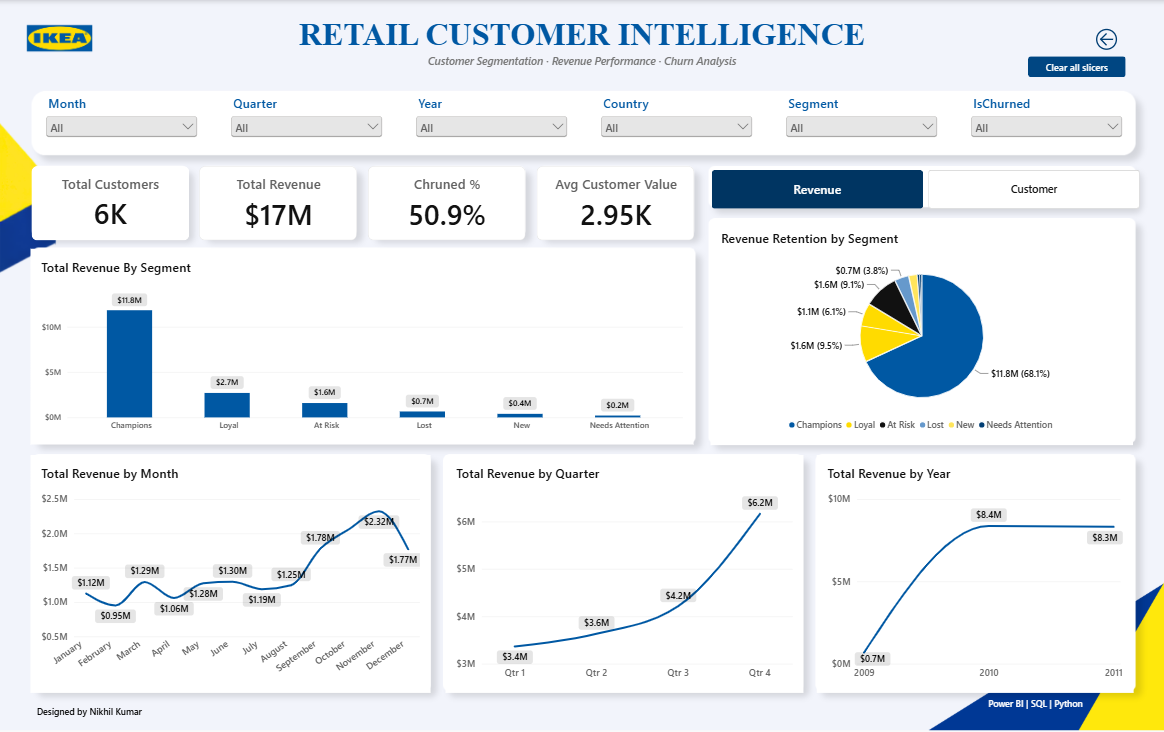

The dashboard page shown, as its layout file describes it:
{"tool":"powerbi","page":{"name":"Overview","canvas":[1750,1100],"ordinal":0},"visuals":[{"type":"cardVisual","fields":{"Data":["Sheet1.Total Customers"]},"box":[50,249.2,236.2,111],"z":0},{"type":"columnChart","title":"Total Revenue By Segment","fields":{"Category":["Sheet1.Segment"],"Y":["Sheet1.Total Revenue"]},"box":[49.4,373.1,994.4,293.5],"z":0,"group":"g1"},{"type":"cardVisual","fields":{"Data":["Sheet1.Total Revenue"]},"box":[302.7,249.2,236.2,111],"z":1000},{"type":"pieChart","title":"Revenue Retention by Segment","fields":{"Category":["Sheet1.Segment"],"Series":["Sheet1.IsChurned"],"Y":["Sheet1.Total Revenue"]},"box":[1069.8,329.2,633.7,337.4],"z":1000,"group":"g1"},{"type":"cardVisual","fields":{"Data":["Sheet1.Chruned %"]},"box":[555.3,249,236.2,111],"z":2000},{"type":"lineChart","fields":{"Category":["Sheet1.InvoiceDate.Variation.Date Hierarchy.Month"],"Y":["Sheet1.Total Revenue"]},"box":[50,681.7,600,356.7],"z":2000,"group":"g1"},{"type":"cardVisual","fields":{"Data":["Sheet1.Avg Customer Value"]},"box":[808,249,236,111],"z":3000},{"type":"lineChart","fields":{"Category":["Sheet1.InvoiceDate.Variation.Date Hierarchy.Quarter"],"Y":["Sheet1.Total Revenue"]},"box":[670.9,681.7,536.7,356.7],"z":3000,"group":"g1"},{"type":"slicer","fields":{"Values":["Sheet1.InvoiceDate.Variation.Date Hierarchy.Month"]},"box":[67.5,142.5,236.2,80.6],"z":4000},{"type":"lineChart","fields":{"Category":["Sheet1.InvoiceDate.Variation.Date Hierarchy.Year"],"Y":["Sheet1.Total Revenue"]},"box":[1228.4,681.7,475,356.7],"z":4000,"group":"g1"},{"type":"slicer","fields":{"Values":["Sheet1.InvoiceDate.Variation.Date Hierarchy.Quarter"]},"box":[345,142.6,236.2,80.6],"z":5000},{"type":"slicer","fields":{"Values":["Sheet1.InvoiceDate.Variation.Date Hierarchy.Year"]},"box":[622.6,142.6,236.2,80.6],"z":6000},{"type":"slicer","fields":{"Values":["Sheet1.Country"]},"box":[900.1,142.6,236.2,80.6],"z":7000},{"type":"slicer","fields":{"Values":["Sheet1.Segment"]},"box":[1177.7,142.6,236.2,80.6],"z":8000},{"type":"slicer","fields":{"Values":["Sheet1.IsChurned"]},"box":[1455.2,142.6,236.2,80.6],"z":9000},{"type":"group","id":"g1","title":"Revenue","box":[49.4,329.2,1654.1,709.2],"z":10000},{"type":"bookmarkNavigator","box":[1069.8,255.1,643.3,59],"z":12000},{"type":"textbox","box":[57.6,1057.5,513,42.5],"z":13000},{"type":"image","box":[0,15.1,185.2,85],"z":14000},{"type":"textbox","box":[49.4,24.7,1654.1,118],"z":15000},{"type":"textbox","box":[1444.3,1046.5,224.9,32.9],"z":16000},{"type":"actionButton","box":[1613,37,100,40],"z":17000},{"type":"actionButton","box":[1544.4,83.7,146.8,31.5],"z":18000}]}

Visuals, with their boxes in screenshot pixels (x1, y1, x2, y2), scaled from the page's 1750x1100 canvas onto the 1164x732 screenshot:
cardVisual - Sheet1.Total Customers: bbox=(33, 166, 190, 240)
"Total Revenue By Segment" columnChart: bbox=(33, 248, 694, 444)
cardVisual - Sheet1.Total Revenue: bbox=(201, 166, 358, 240)
"Revenue Retention by Segment" pieChart: bbox=(712, 219, 1133, 444)
cardVisual - Sheet1.Chruned %: bbox=(369, 166, 526, 240)
lineChart - Sheet1.InvoiceDate.Variation.Date Hierarchy.Month x Sheet1.Total Revenue: bbox=(33, 454, 432, 691)
cardVisual - Sheet1.Avg Customer Value: bbox=(537, 166, 694, 240)
lineChart - Sheet1.InvoiceDate.Variation.Date Hierarchy.Quarter x Sheet1.Total Revenue: bbox=(446, 454, 803, 691)
slicer - Sheet1.InvoiceDate.Variation.Date Hierarchy.Month: bbox=(45, 95, 202, 148)
lineChart - Sheet1.InvoiceDate.Variation.Date Hierarchy.Year x Sheet1.Total Revenue: bbox=(817, 454, 1133, 691)
slicer - Sheet1.InvoiceDate.Variation.Date Hierarchy.Quarter: bbox=(229, 95, 387, 149)
slicer - Sheet1.InvoiceDate.Variation.Date Hierarchy.Year: bbox=(414, 95, 571, 149)
slicer - Sheet1.Country: bbox=(599, 95, 756, 149)
slicer - Sheet1.Segment: bbox=(783, 95, 940, 149)
slicer - Sheet1.IsChurned: bbox=(968, 95, 1125, 149)
"Revenue" group: bbox=(33, 219, 1133, 691)
bookmarkNavigator: bbox=(712, 170, 1139, 209)
textbox: bbox=(38, 704, 380, 731)
image: bbox=(0, 10, 123, 67)
textbox: bbox=(33, 16, 1133, 95)
textbox: bbox=(961, 696, 1110, 718)
actionButton: bbox=(1073, 25, 1139, 51)
actionButton: bbox=(1027, 56, 1125, 77)
